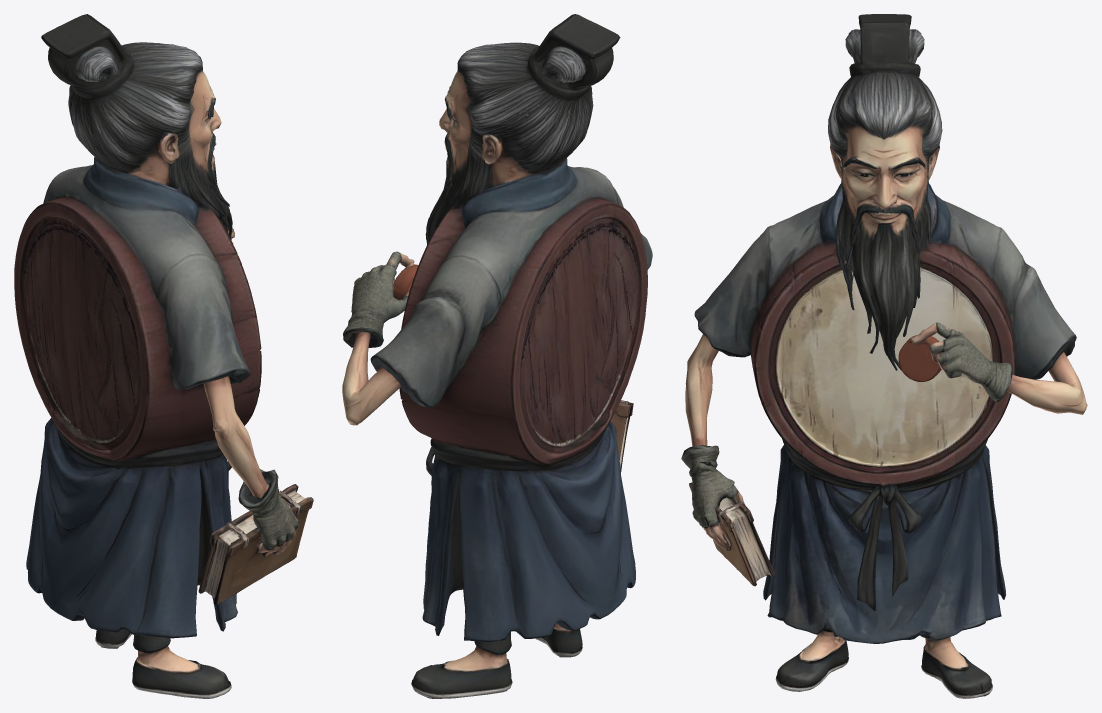
File: p_b1p_qinchanggeng.glb
The picture shows the model from 3 angles, left to right: view 1: azimuth 30°, elevation 25°; view 2: azimuth 150°, elevation 25°; view 3: azimuth 270°, elevation 25°; orthographic projection. The views are drawn at different scales.
Parts seen in each view (by area): view 1: tripo_node_26329393-4584-42c8-af87-728d43cf3fa2; view 2: tripo_node_26329393-4584-42c8-af87-728d43cf3fa2; view 3: tripo_node_26329393-4584-42c8-af87-728d43cf3fa2.
Boxes of the visible parts, x1,y1,x2,y2 form: tripo_node_26329393-4584-42c8-af87-728d43cf3fa2: (14, 14, 313, 698); tripo_node_26329393-4584-42c8-af87-728d43cf3fa2: (342, 14, 652, 698); tripo_node_26329393-4584-42c8-af87-728d43cf3fa2: (681, 14, 1087, 698).
Size of the model in its own units: 0.3395 by 0.9781 by 0.5711.
1 material, 1 textured.
